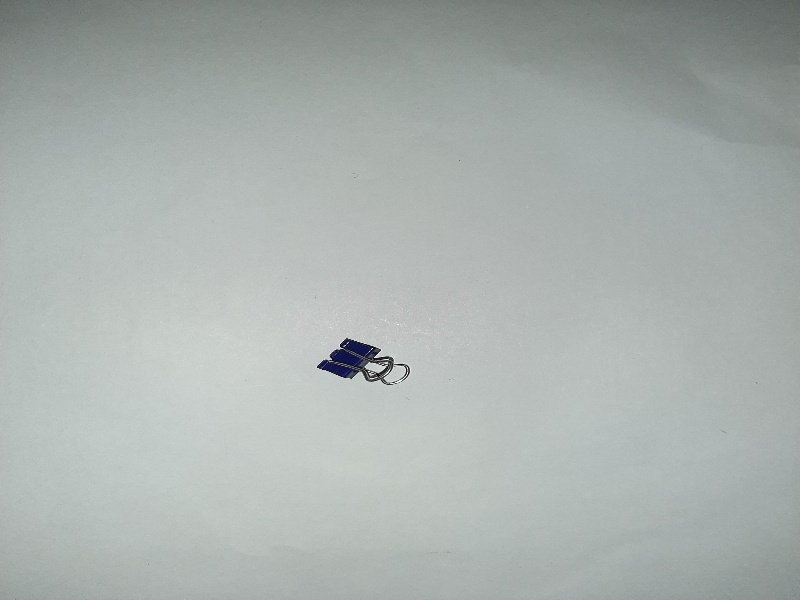Small Paperclip: (309, 330, 413, 392)
